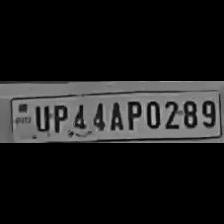0: (143, 97, 161, 129)
2: (162, 97, 180, 130)
4: (68, 100, 88, 134), (90, 99, 106, 131)
8: (180, 96, 198, 130)
9: (198, 96, 216, 128)
A: (106, 98, 124, 132)
P: (122, 98, 142, 130), (49, 101, 67, 133)
U: (32, 102, 50, 132)
